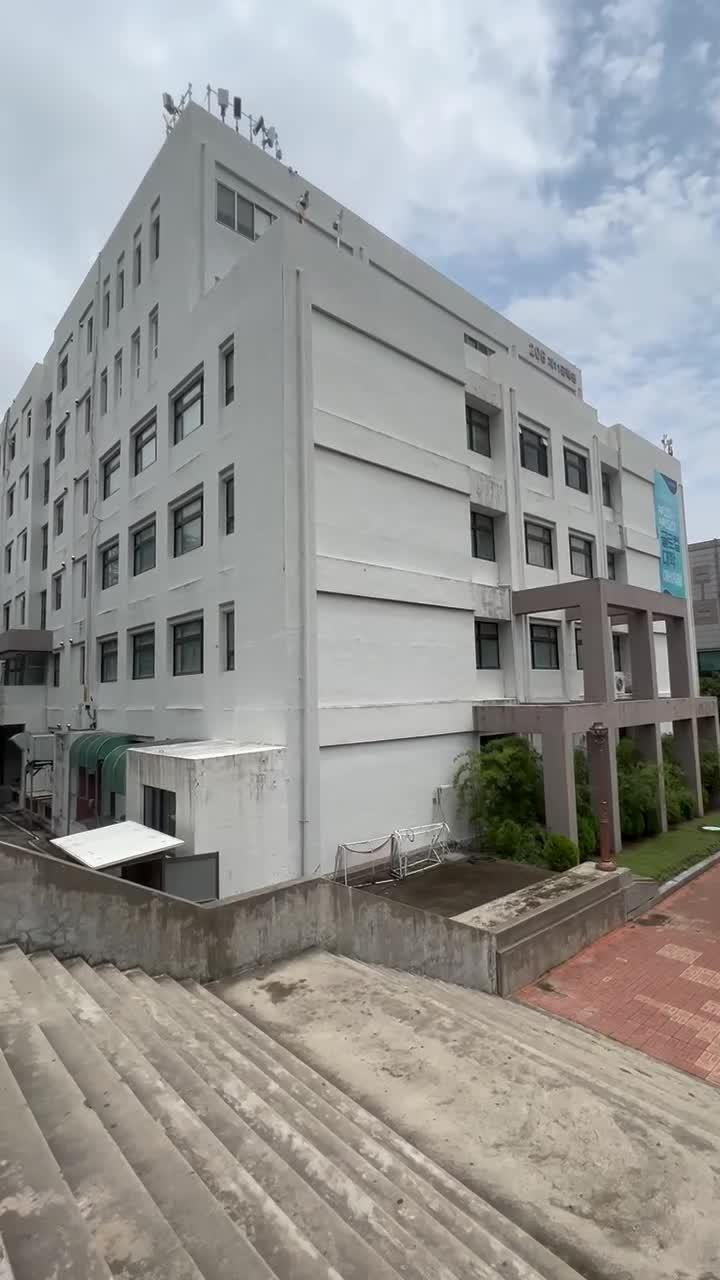building: (28, 106, 700, 802)
